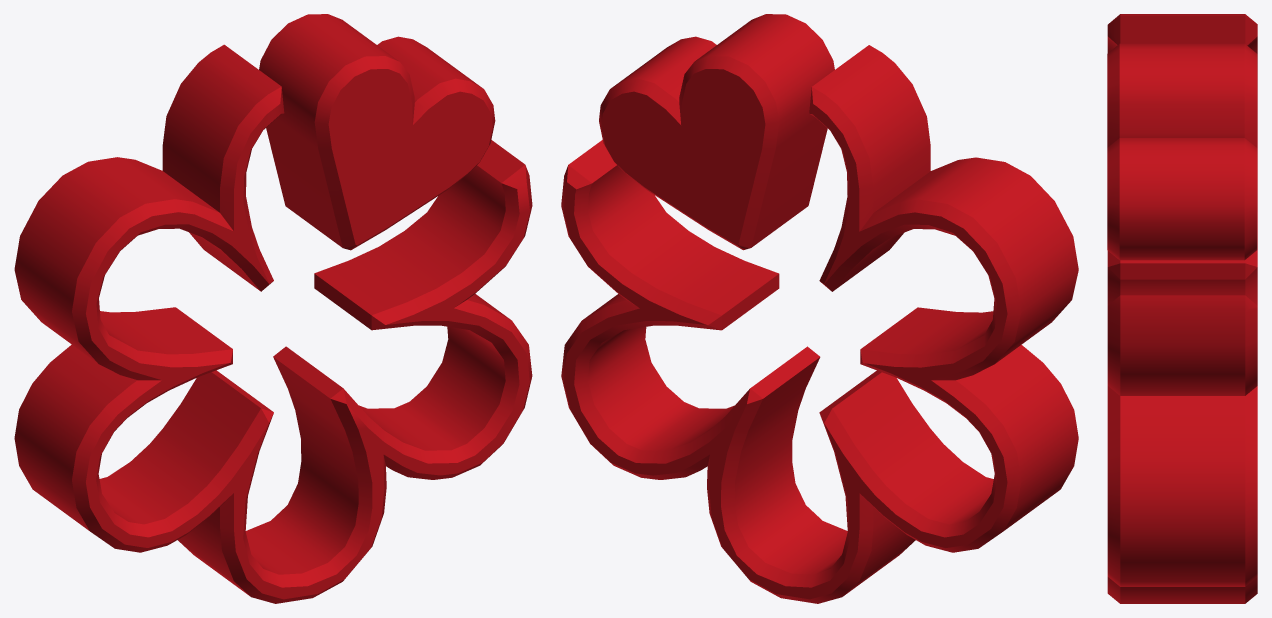
The model's file is Michelin_Star.glb.
3 renders of one model, left to right at view 1: azimuth 30°, elevation 25°; view 2: azimuth 150°, elevation 25°; view 3: azimuth 270°, elevation 25°, orthographic. The views are drawn at different scales.
Visible parts, largest first — view 1: Michelin_Star; view 2: Michelin_Star; view 3: Michelin_Star.
Boxes of the visible parts, x1,y1,x2,y2 form: Michelin_Star: (14,14,532,603); Michelin_Star: (561,14,1078,603); Michelin_Star: (1107,14,1257,603).
Bounding box in the file's own units: 0.3547 × 0.3893 × 0.0922.
